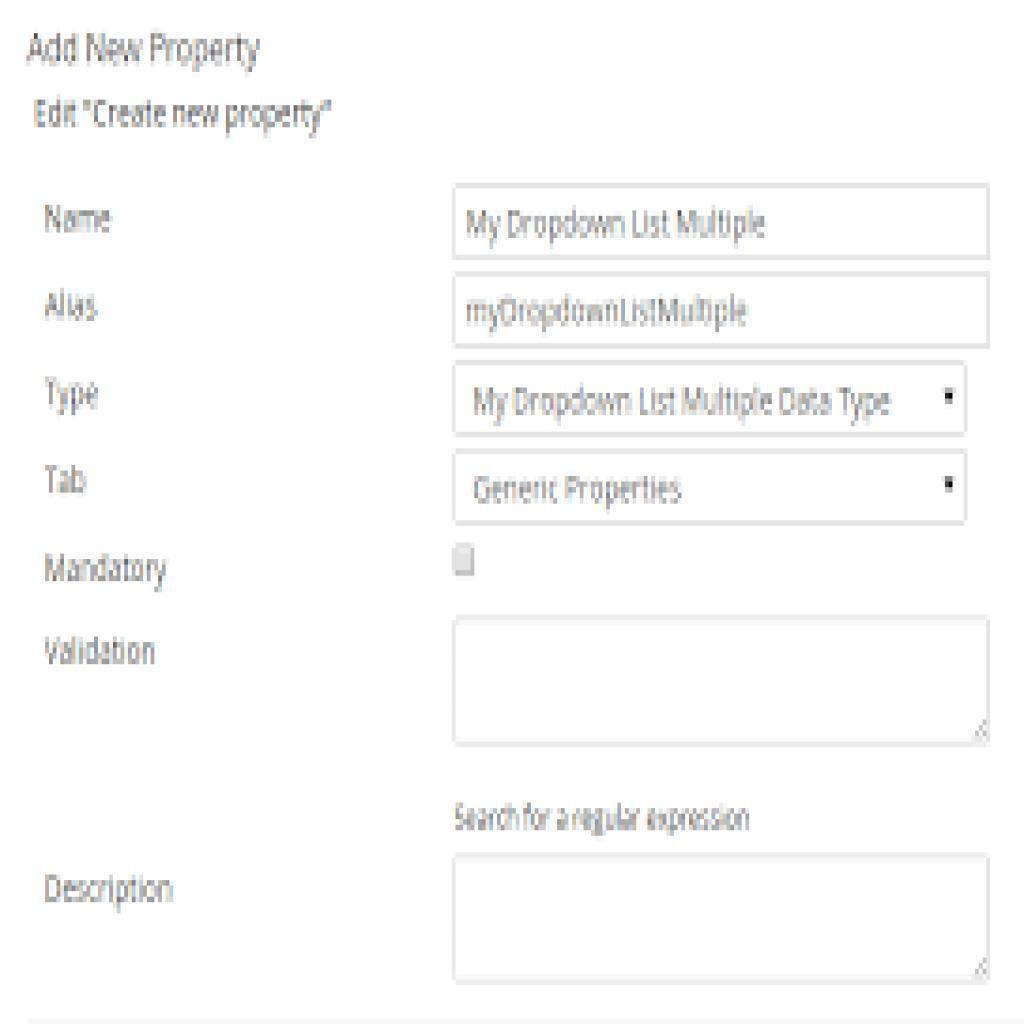checkbox: (450, 542, 480, 580)
dropdown: (458, 455, 967, 526), (457, 363, 969, 431)
input: (454, 183, 988, 261), (456, 271, 988, 349)
